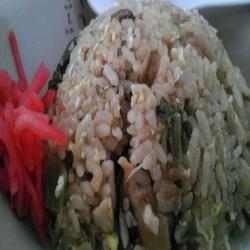rice: (71, 19, 234, 236)
